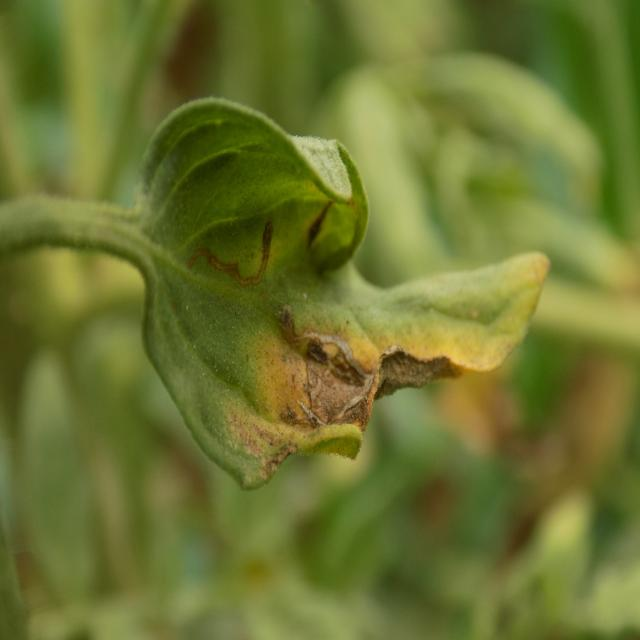tomato_early blight: (134, 88, 541, 499)
